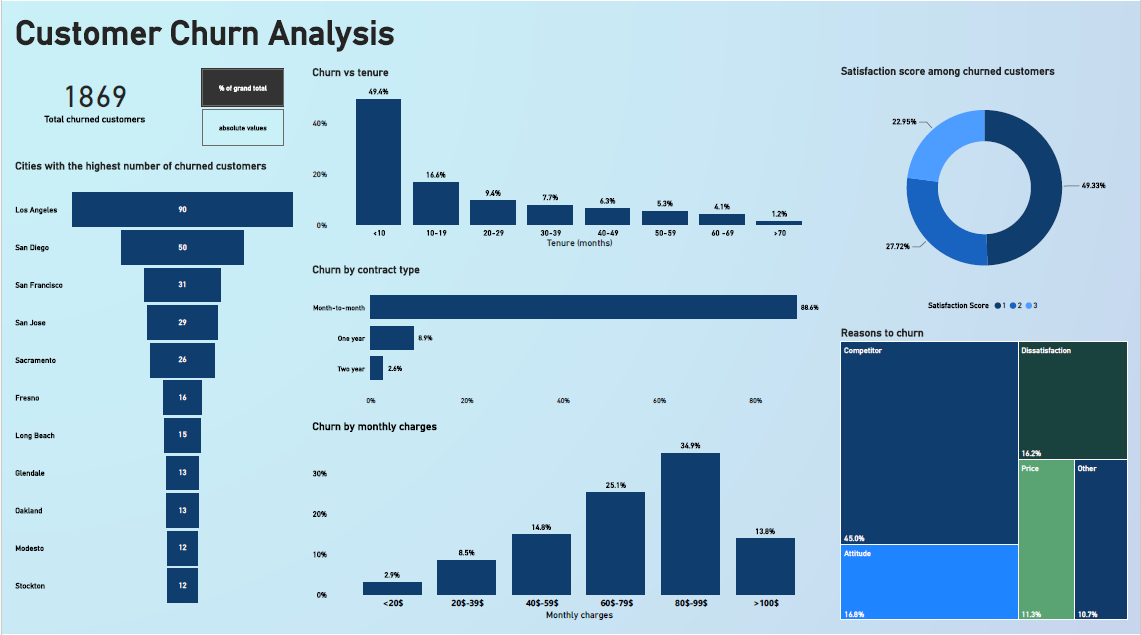

Layout of this report page (visuals, bound fields, positions):
{"tool":"powerbi","page":{"name":"Page 1","canvas":[1800,1000],"ordinal":0},"visuals":[{"type":"clusteredColumnChart","title":"Churn vs tenure ","fields":{"Y":["telco.TotalCustChurned"],"Category":["telco.Tenure Bins 2"]},"box":[485.5,101.8,821.8,292.7],"z":0},{"type":"funnel","title":"Cities with the highest number of churned customers","fields":{"Category":["telco.City"],"Y":["telco.TotalCustChurned"]},"box":[16.4,249.1,452.7,734.5],"z":1000},{"type":"clusteredBarChart","title":"Churn by contract type","fields":{"Category":["telco.Contract"],"Y":["telco.TotalCustChurned"]},"box":[485.5,414.5,821.8,230.9],"z":2000},{"type":"textbox","box":[15.9,14.5,626.1,69.6],"z":3000},{"type":"slicer","fields":{"Values":["MeasureSwitch.Measures"]},"box":[289.1,100,180,136.4],"z":4000},{"type":"card","fields":{"Values":["telco.TotalCustChurned"]},"box":[15.8,84.2,261.4,136.8],"z":5000},{"type":"donutChart","title":"Satisfaction score among churned customers","fields":{"Category":["telco.Satisfaction Score"],"Y":["telco.TotalCustChurned"]},"box":[1321.8,100,463.6,400],"z":6000},{"type":"clusteredColumnChart","title":"Churn by monthly charges","fields":{"Y":["telco.TotalCustChurned"],"Category":["telco.Charges Bins"]},"box":[485.5,661.8,821.8,321.8],"z":7000},{"type":"treemap","title":"Reasons to churn","fields":{"Group":["telco.Churn Category"],"Values":["telco.TotalCustChurned"]},"box":[1321.8,514.5,463.6,469.1],"z":8000}]}

Visuals, with their boxes in screenshot pixels (x1, y1, x2, y2), scaled from the page's 1800x1000 canvas onto the 1141x635 screenshot:
"Churn vs tenure " clusteredColumnChart: Rect(308, 65, 829, 251)
"Cities with the highest number of churned customers" funnel: Rect(10, 158, 297, 625)
"Churn by contract type" clusteredBarChart: Rect(308, 263, 829, 410)
textbox: Rect(10, 9, 407, 53)
slicer - MeasureSwitch.Measures: Rect(183, 64, 297, 150)
card - telco.TotalCustChurned: Rect(10, 53, 176, 140)
"Satisfaction score among churned customers" donutChart: Rect(838, 64, 1132, 318)
"Churn by monthly charges" clusteredColumnChart: Rect(308, 420, 829, 625)
"Reasons to churn" treemap: Rect(838, 327, 1132, 625)
